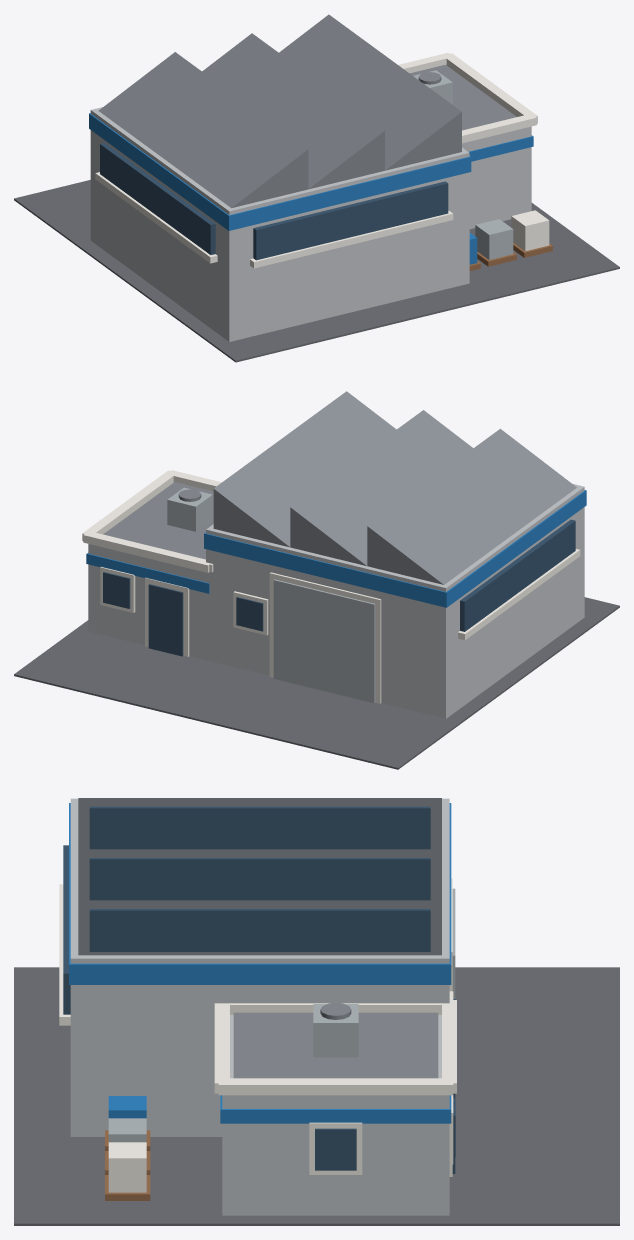
3 renders of one model, top to bottom at view 1: azimuth 30°, elevation 25°; view 2: azimuth 150°, elevation 25°; view 3: azimuth 270°, elevation 25°, orthographic. The views are drawn at different scales.
Parts seen in each view (by area): view 1: roof (×4), hall, yard, window_band (×2), cladding_band, office, parapet (×3), sill (×2), crate (×2), accent_stripe; view 2: roof (×4), hall, yard, garage_door, cladding_band, office, window_band, parapet (×3), door, garage_door_frame, window_glass (×2), ac_unit_body (+4 smaller); view 3: yard, skylight (×3), hall, roof (×4), office, cladding_band, parapet (×4), crate (×3), accent_stripe, ac_unit_body, window_glass, window_frame (+2 smaller).
Part boxes in pixels (box(x1,y1,x2,y2)): roof (×4): box(98, 14, 516, 207); hall: box(90, 107, 469, 341); yard: box(14, 180, 619, 362); window_band (×2): box(100, 143, 448, 260); cladding_band: box(89, 113, 471, 230); office: box(462, 126, 531, 229); parapet (×3): box(398, 53, 537, 143); sill (×2): box(95, 172, 453, 268); crate (×2): box(475, 210, 549, 259); accent_stripe: box(468, 135, 533, 161); roof (×4): box(103, 391, 576, 584); hall: box(206, 484, 584, 718); yard: box(14, 597, 619, 769); garage_door: box(273, 579, 375, 703); cladding_band: box(204, 490, 586, 607); office: box(88, 544, 205, 660); window_band: box(460, 519, 575, 631); parapet (×3): box(82, 470, 221, 572); door: box(148, 584, 183, 656); garage_door_frame: box(269, 572, 381, 703); window_glass (×2): box(103, 572, 263, 631); ac_unit_body: box(167, 487, 212, 531); yard: box(14, 967, 619, 1225); skylight (×3): box(89, 806, 430, 951); hall: box(70, 798, 449, 1136); roof (×4): box(78, 798, 441, 1078); office: box(222, 1015, 449, 1215); cladding_band: box(69, 803, 451, 984); parapet (×4): box(214, 998, 456, 1095); crate (×3): box(108, 1096, 146, 1192); accent_stripe: box(220, 1095, 451, 1123); ac_unit_body: box(313, 1004, 358, 1057); window_glass: box(315, 1128, 356, 1170); window_frame: box(309, 1122, 362, 1174).
Size of the model in its own units: 16 by 6.87 by 16.
